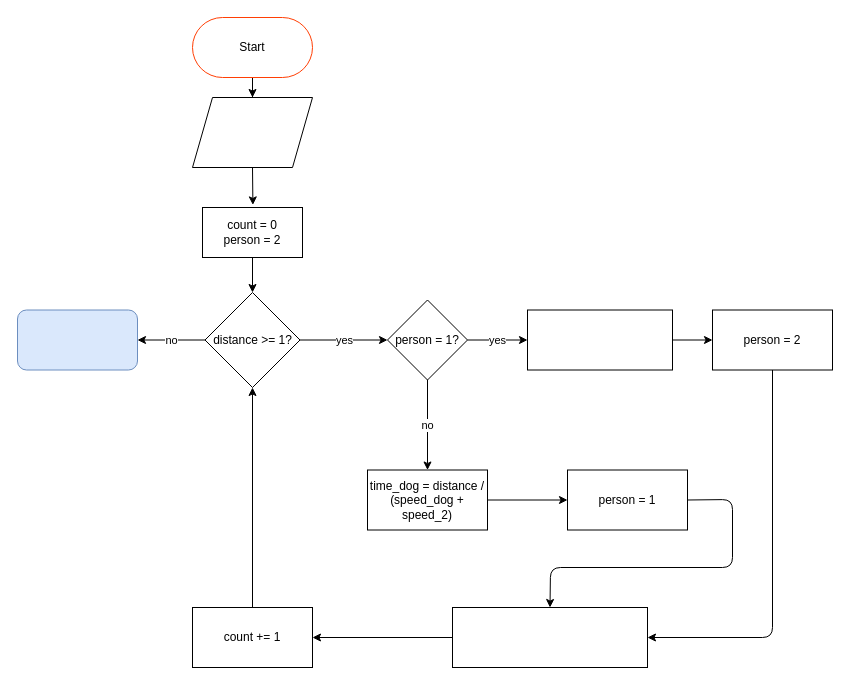
Image size: 850x685. Some labels were removed from this diagram. The shapes that lost their labels are listed below. From the top down, each one's box as (x1, y1, x2, y2) in pixels, then its label:
(192, 96, 312, 168): speed_1 speed_2 speed_dog distance
(16, 309, 138, 370): return count
(526, 309, 672, 370): time_dog = distance / (speed_dog + speed_1)
(452, 606, 648, 668): distance -= time dog * (speed_1 + speed_2)
